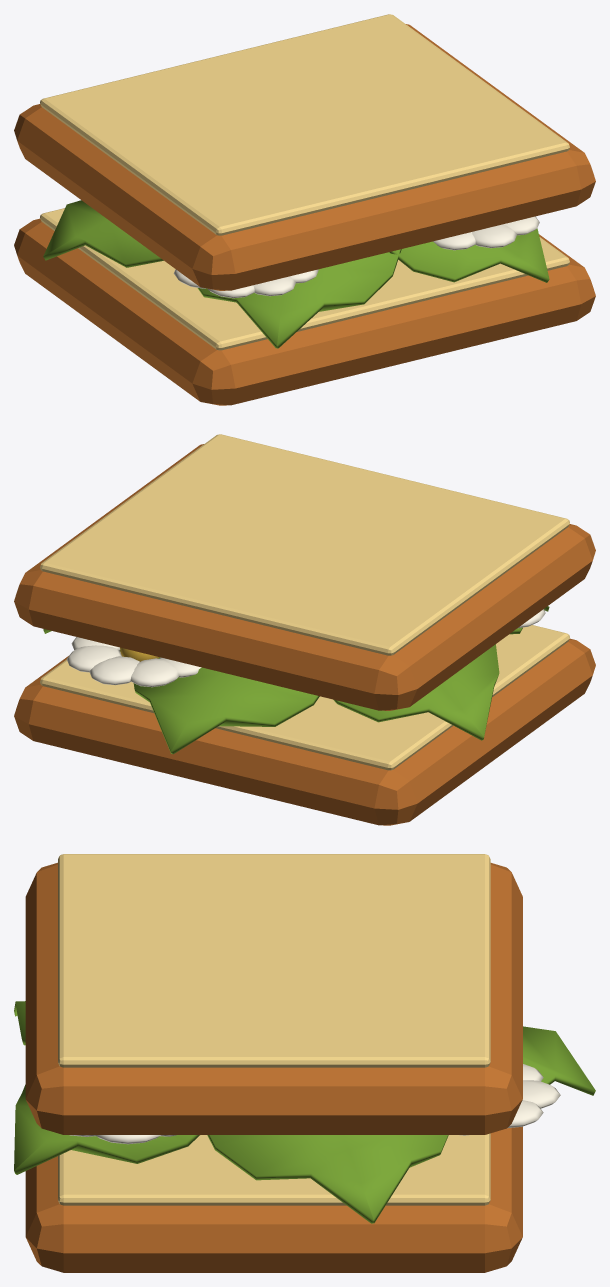
File: daffodil-daisy-sandwich.glb
The picture shows the model from 3 angles, top to bottom: view 1: azimuth 30°, elevation 25°; view 2: azimuth 150°, elevation 25°; view 3: azimuth 270°, elevation 25°; orthographic projection. The views are drawn at different scales.
Visible parts, largest first — view 1: edible_crumb.001, edible_bread.002, edible_bread.001, edible_crumb, edible_lettuce.027, edible_lettuce.028, edible_lettuce.026, edible_flower_petal.014, edible_flower_petal.006, edible_flower_petal.013; view 2: edible_crumb.001, edible_bread.002, edible_bread.001, edible_crumb, edible_lettuce.025, edible_lettuce.026, edible_flower_petal.019, edible_flower_petal.018, edible_flower_petal.017; view 3: edible_crumb.001, edible_bread.002, edible_bread.001, edible_crumb, edible_lettuce.029, edible_lettuce.028, edible_lettuce.025, edible_flower_petal.018, edible_flower_petal.017.
Boxes of the visible parts, bbox=[...] form: edible_crumb.001: bbox=[40, 14, 569, 235]; edible_bread.002: bbox=[14, 24, 595, 290]; edible_bread.001: bbox=[14, 218, 595, 405]; edible_crumb: bbox=[40, 208, 569, 350]; edible_lettuce.027: bbox=[197, 249, 401, 348]; edible_lettuce.028: bbox=[389, 228, 549, 282]; edible_lettuce.026: bbox=[43, 200, 163, 267]; edible_flower_petal.014: bbox=[472, 224, 516, 248]; edible_flower_petal.006: bbox=[253, 276, 295, 296]; edible_flower_petal.013: bbox=[433, 232, 475, 250]; edible_crumb.001: bbox=[40, 434, 569, 655]; edible_bread.002: bbox=[14, 444, 595, 710]; edible_bread.001: bbox=[14, 638, 595, 825]; edible_crumb: bbox=[40, 625, 569, 770]; edible_lettuce.025: bbox=[133, 657, 319, 754]; edible_lettuce.026: bbox=[333, 644, 499, 740]; edible_flower_petal.019: bbox=[130, 658, 178, 687]; edible_flower_petal.018: bbox=[89, 656, 139, 685]; edible_flower_petal.017: bbox=[66, 645, 121, 672]; edible_crumb.001: bbox=[58, 854, 490, 1067]; edible_bread.002: bbox=[25, 862, 522, 1134]; edible_bread.001: bbox=[25, 1126, 522, 1272]; edible_crumb: bbox=[58, 1133, 490, 1205]; edible_lettuce.029: bbox=[207, 1135, 448, 1223]; edible_lettuce.028: bbox=[14, 1084, 199, 1174]; edible_lettuce.025: bbox=[523, 1026, 595, 1095]; edible_flower_petal.018: bbox=[522, 1080, 560, 1108]; edible_flower_petal.017: bbox=[507, 1100, 543, 1128].
Size of the model in its own units: 0.2092 by 0.081 by 0.199.
